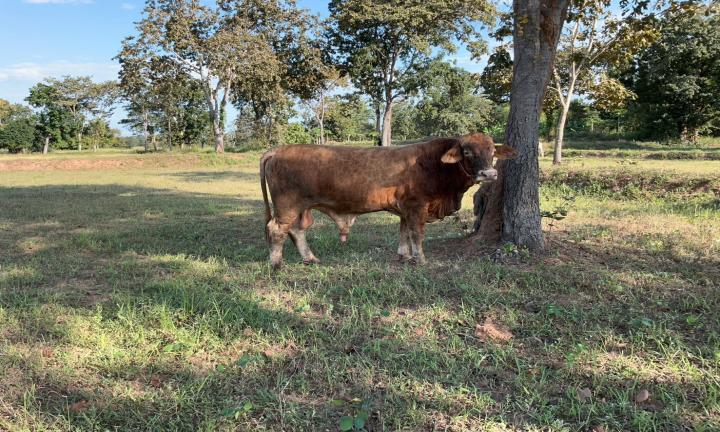Charolais: (260, 133, 519, 268)
